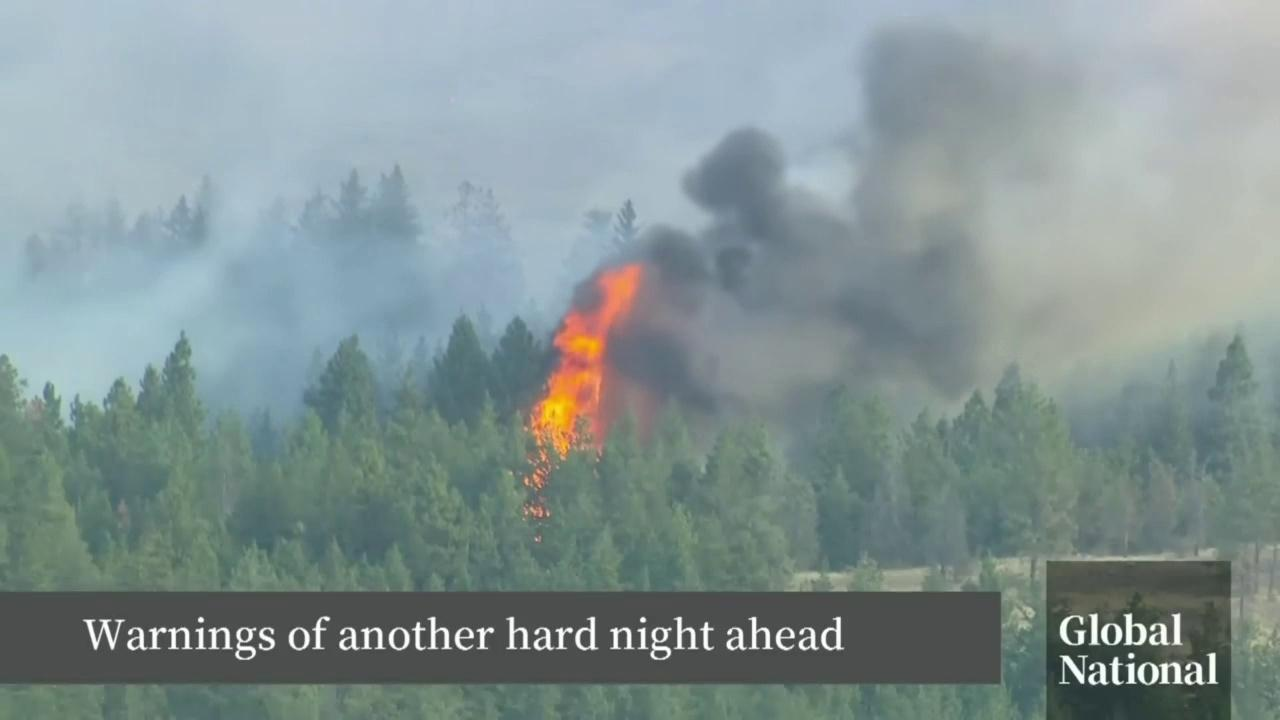fire: (522, 258, 645, 531)
smoke: (0, 0, 1280, 465)
